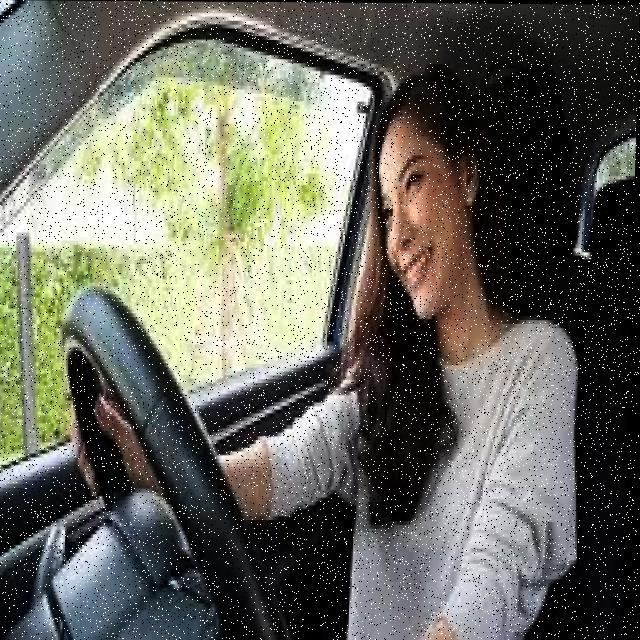noSeatbelt: (338, 302, 582, 634)
